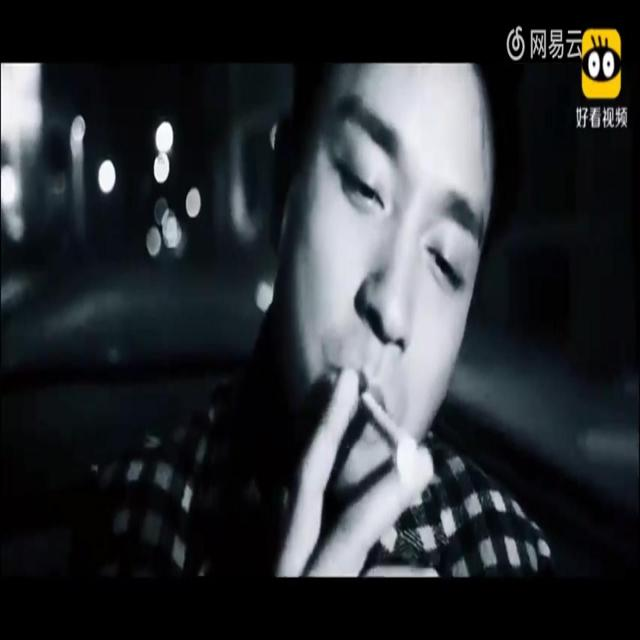Сигарета: (360, 386, 412, 466)
Тело: (95, 61, 542, 580)
